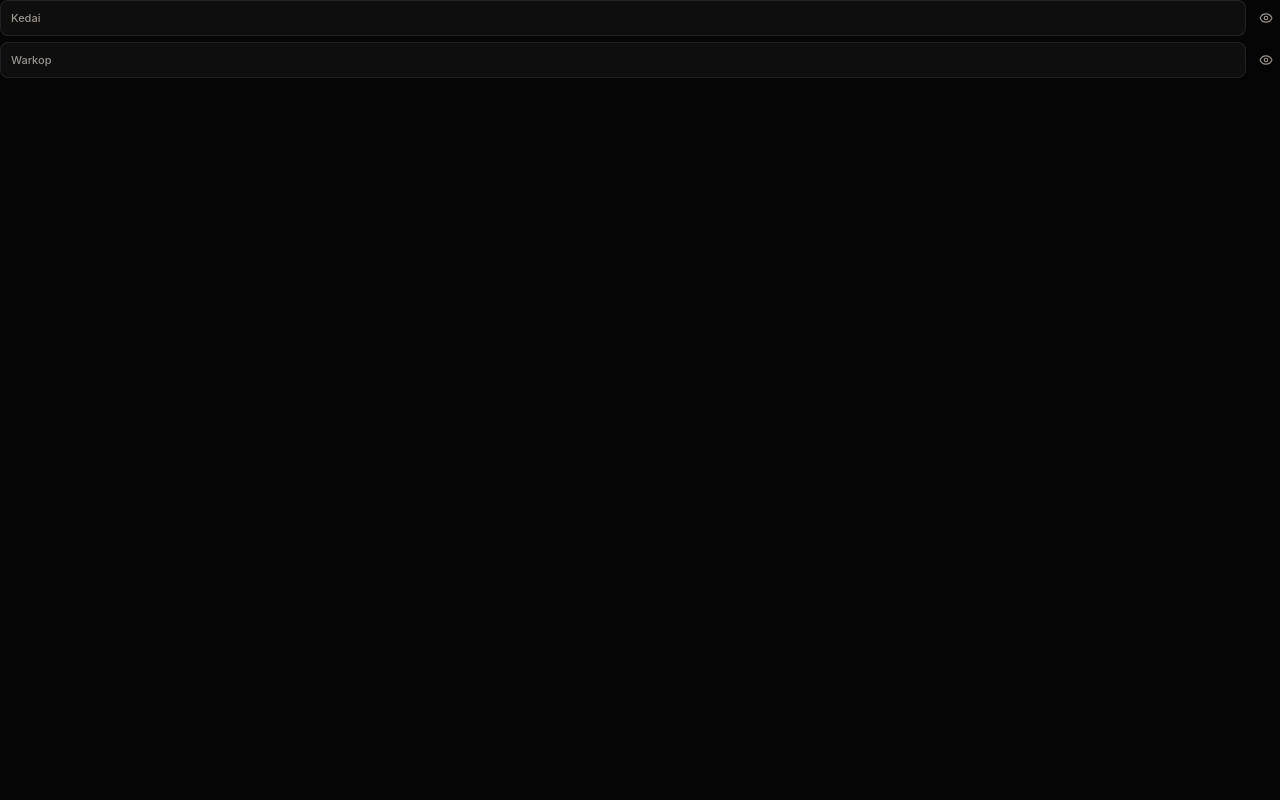
Scenario: ArtifactPicker preview › shows a not-ready message when the site has no preview yet
This screenshot has width=1280, height=800.
Click the button named "Preview site Warkop" at (1266, 60), box [1252,46,1279,74]
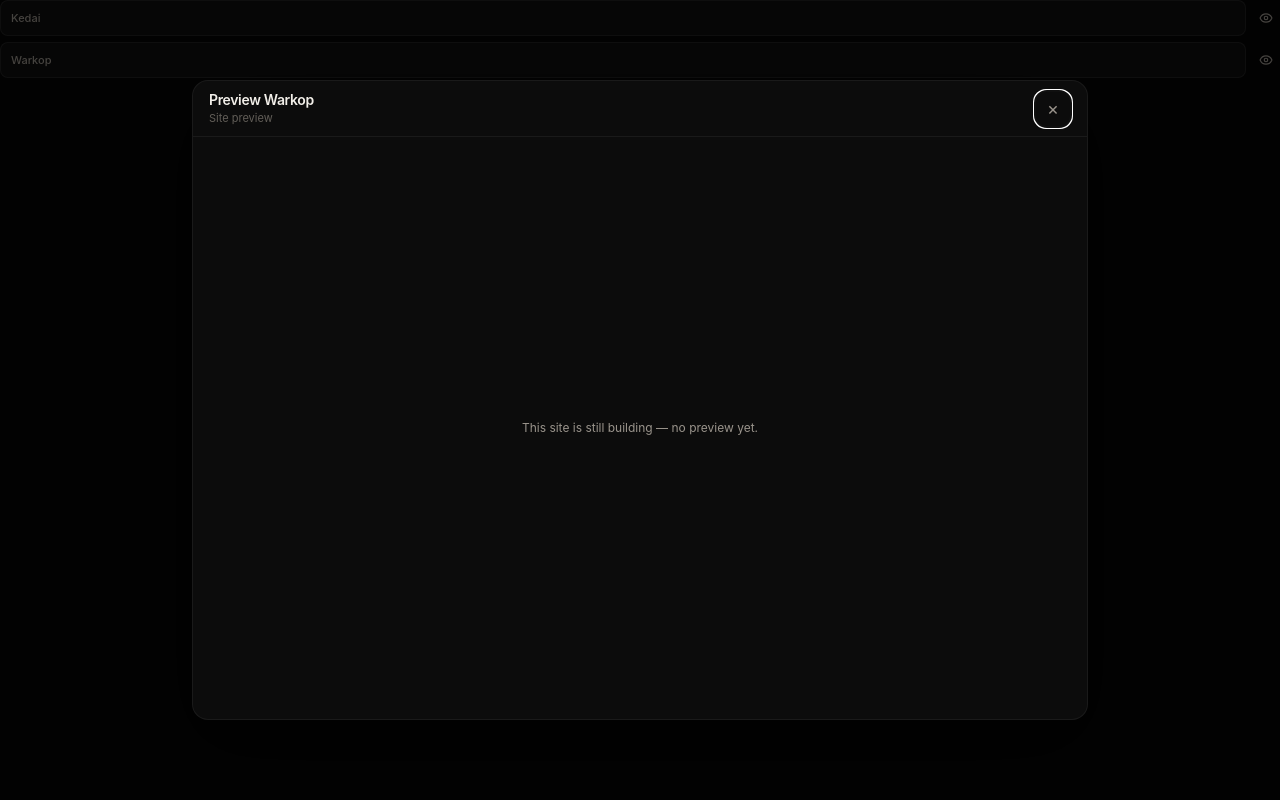
Expected: the text "This site is still building — no preview yet." is shown, [522,419,758,437]
